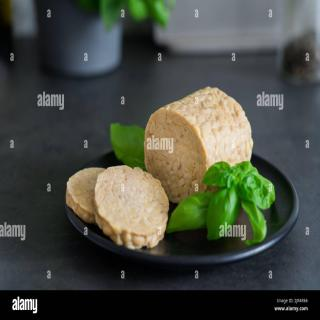Tempe: (94, 165, 170, 251), (66, 167, 107, 225)
